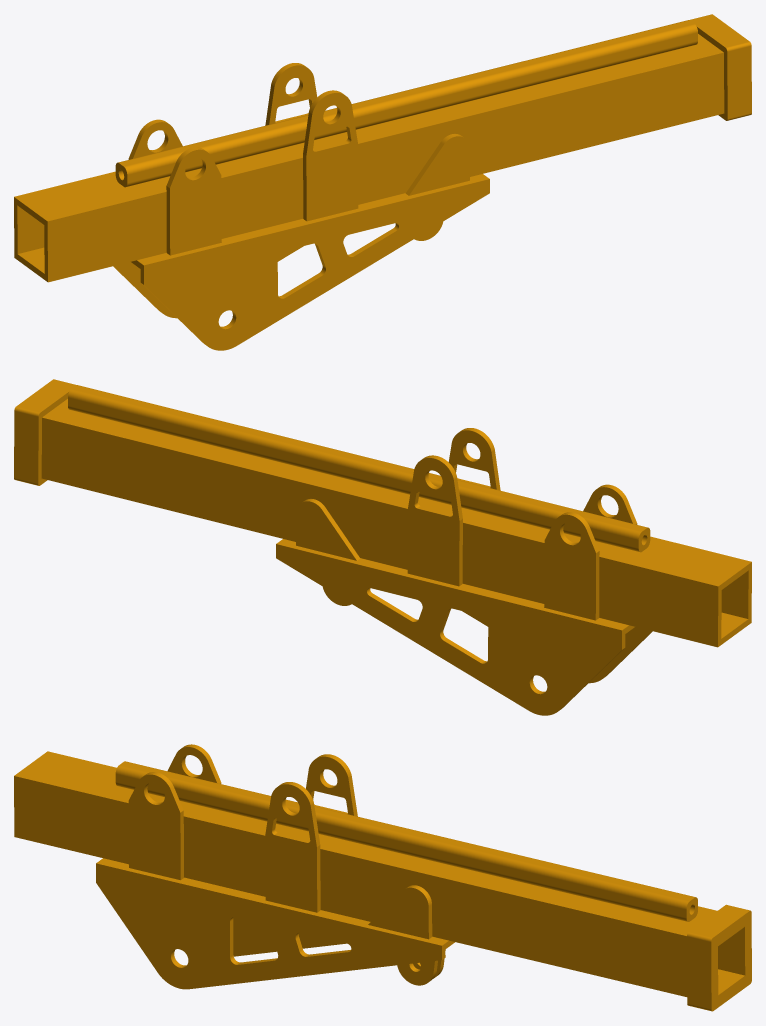
The model's file is Arm.dae.
3 renders of one model, top to bottom at view 1: azimuth 30°, elevation 25°; view 2: azimuth 150°, elevation 25°; view 3: azimuth 330°, elevation 25°, orthographic.
Parts seen in each view (by area): view 1: node0; view 2: node0; view 3: node0.
Boxes of the visible parts, x1,y1,x2,y2 form: node0: [14, 14, 751, 350]; node0: [14, 379, 751, 715]; node0: [14, 744, 751, 1011].
Size of the model in its own units: 1.2 by 0.142 by 0.3729.
